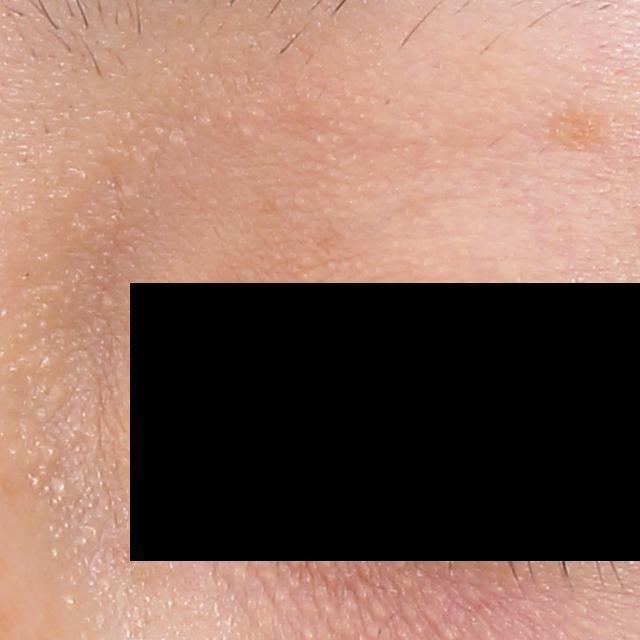melasma: (547, 109, 613, 151)
